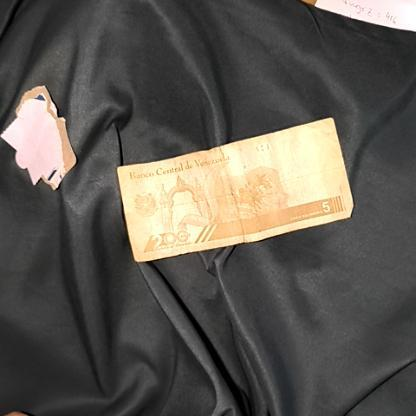five-back-vef: (117, 115, 354, 265)
